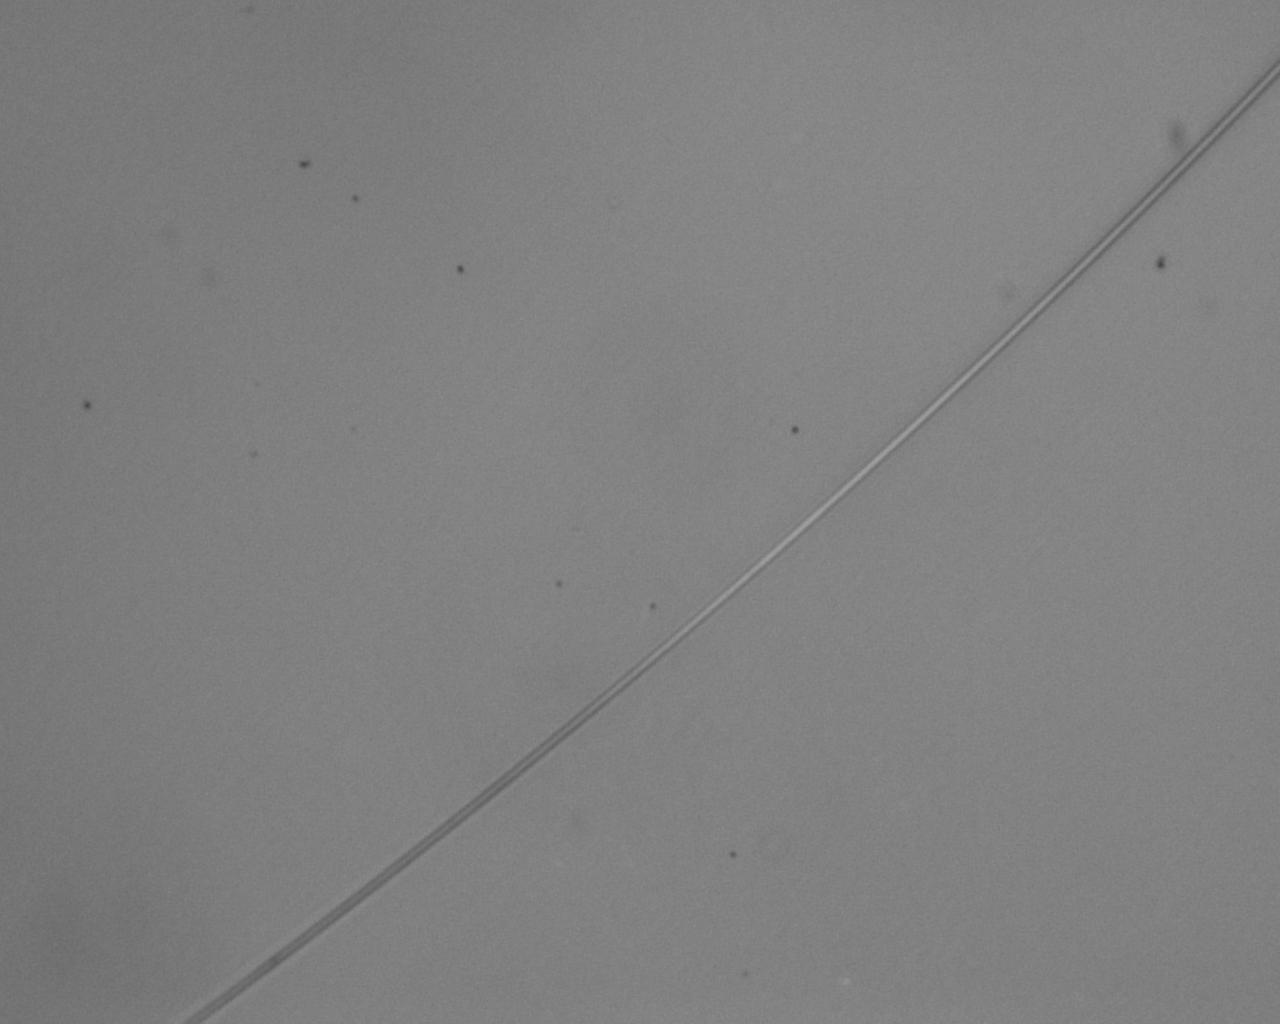fiber: (0, 149, 563, 441), (163, 512, 418, 1024), (1166, 0, 1280, 512)
